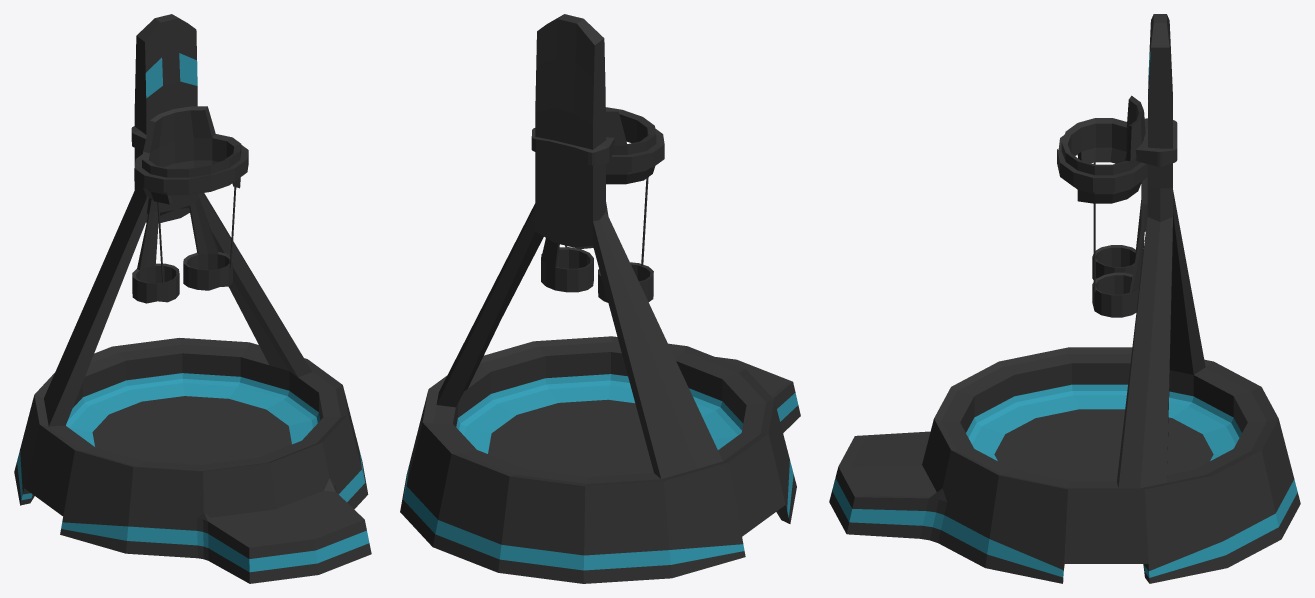
The model's file is PlateformeVR3.fbx.
The picture shows the model from 3 angles, left to right: view 1: azimuth 30°, elevation 25°; view 2: azimuth 150°, elevation 25°; view 3: azimuth 270°, elevation 25°; orthographic projection. The views are drawn at different scales.
Parts seen in each view (by area): view 1: Circle.001; view 2: Circle.001; view 3: Circle.001.
Boxes of the visible parts, <box> form: Circle.001: <box>14,14,371,583</box>; Circle.001: <box>400,14,800,583</box>; Circle.001: <box>829,14,1300,583</box>.
Size of the model in its own units: 189 by 267 by 235.
